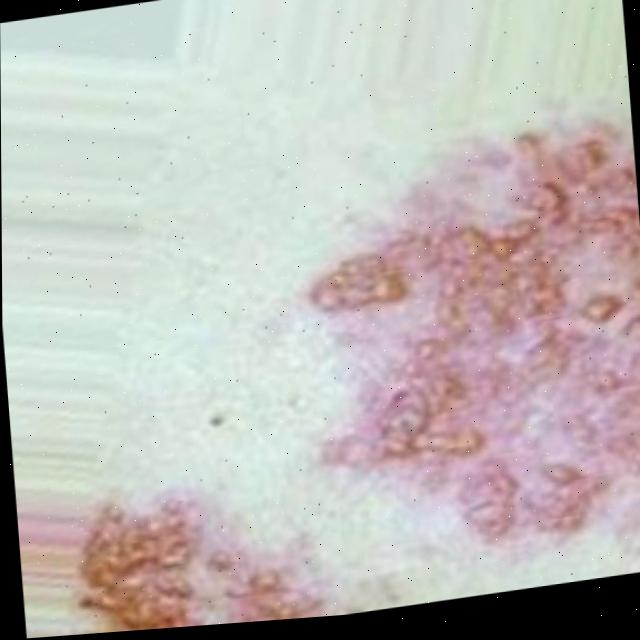Shingles: (292, 110, 640, 575), (69, 472, 332, 635)
